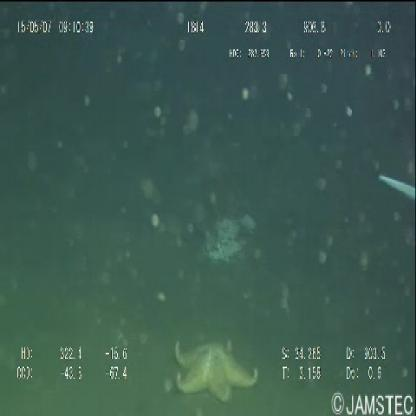Rác: (202, 214, 258, 265)
